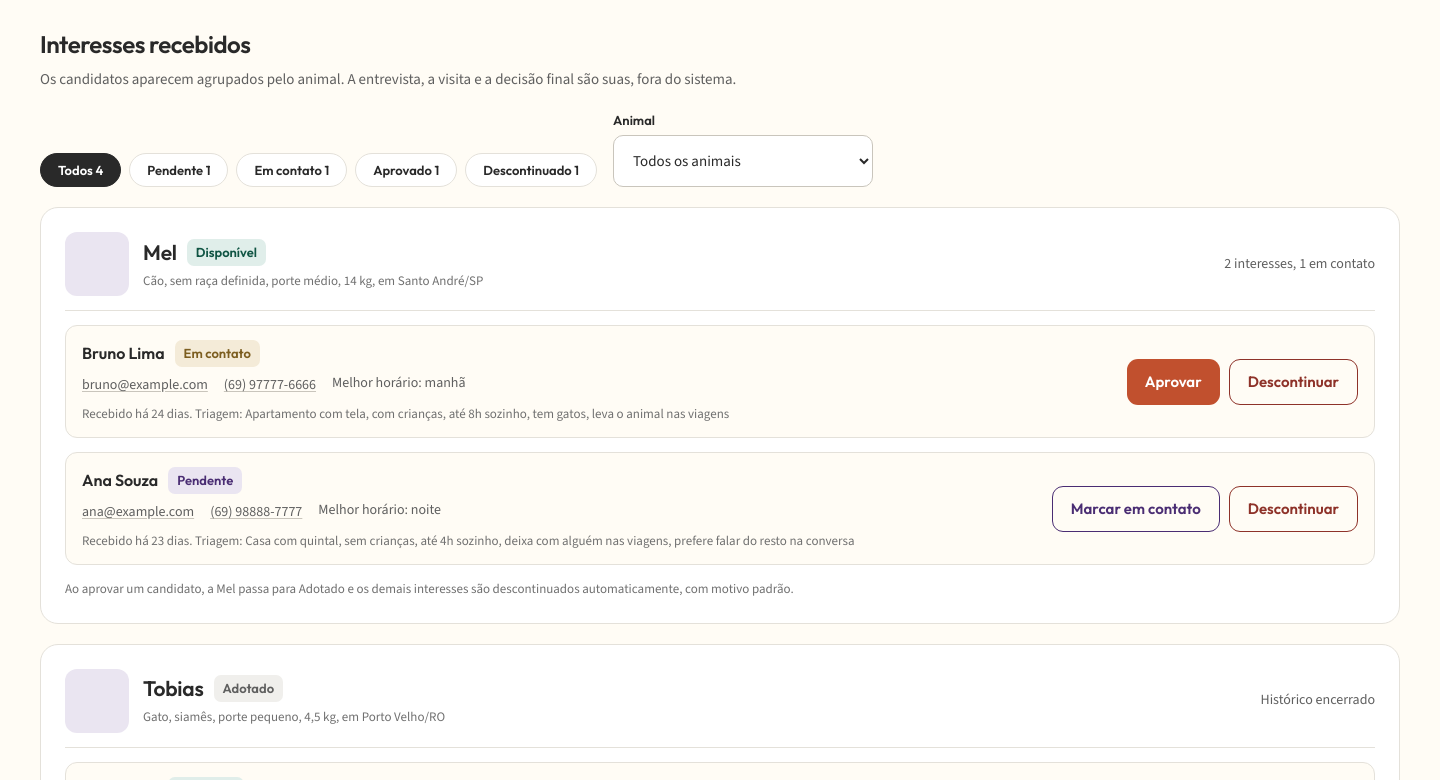
it: filtros › o filtro Descontinuado mostra os descontinuados direto, sem recolher
Expected: the heading "Ana Souza" is shown, [82, 470, 158, 492]
Click the button "Descontinuado 1" at (531, 170), box [465, 152, 597, 187]
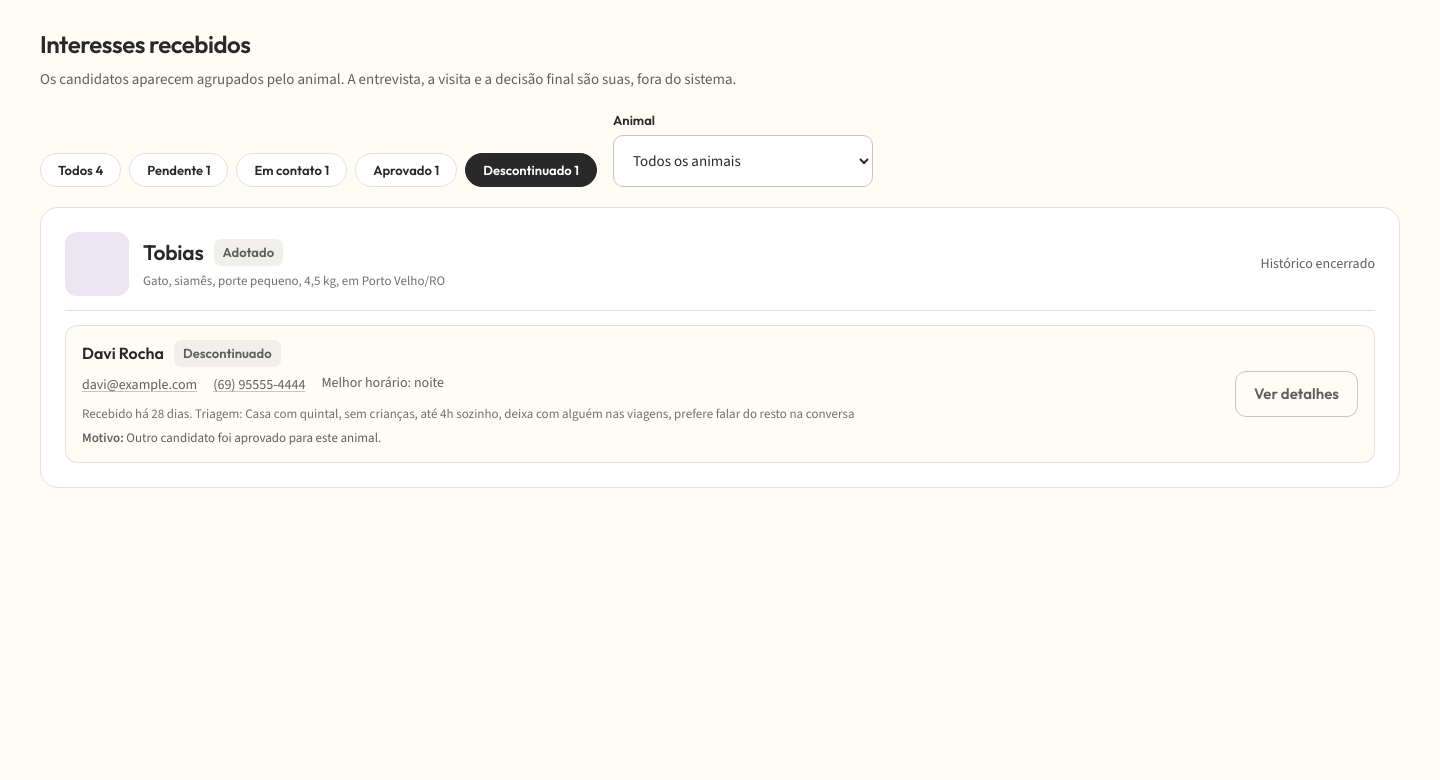
Expected: the text "Outro candidato foi aprovado para este animal." is shown, [126, 429, 381, 446]
